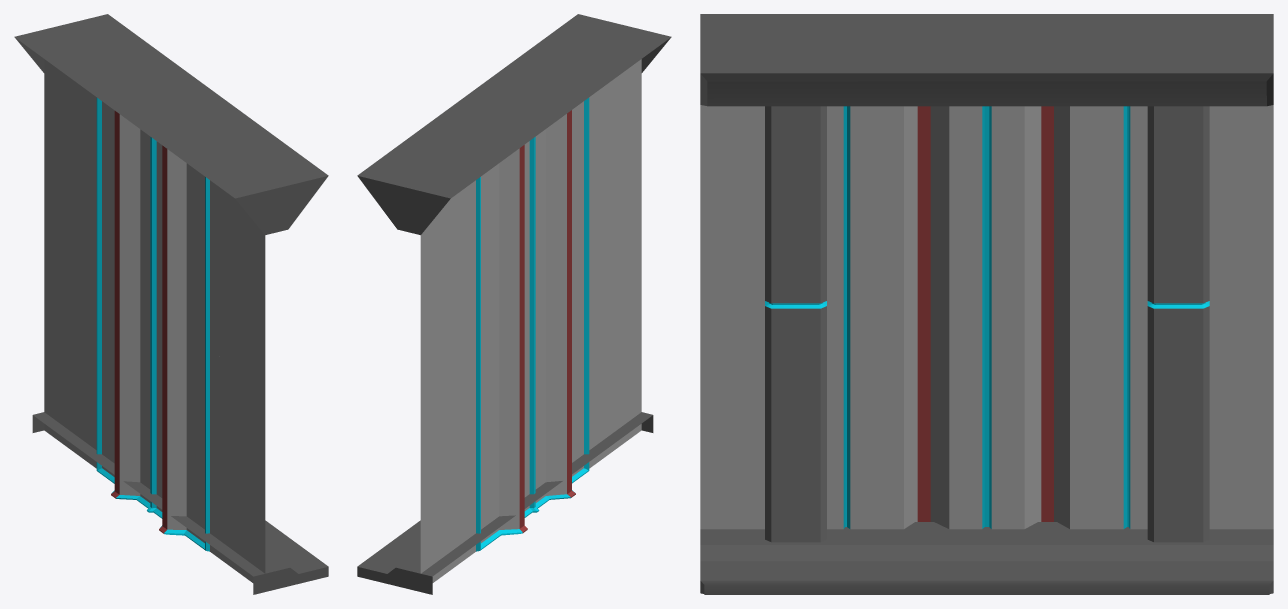
File: SM_Module_03.fbx
The picture shows the model from 3 angles, left to right: view 1: azimuth 30°, elevation 25°; view 2: azimuth 150°, elevation 25°; view 3: azimuth 270°, elevation 25°; orthographic projection. The views are drawn at different scales.
Parts seen in each view (by area): view 1: SM_Module_03; view 2: SM_Module_03; view 3: SM_Module_03.
Boxes of the visible parts, box(x1,y1,x2,y2) form: SM_Module_03: box(14, 14, 328, 594); SM_Module_03: box(357, 14, 671, 594); SM_Module_03: box(700, 14, 1273, 594).
Size of the model in its own units: 149 by 601 by 599.
